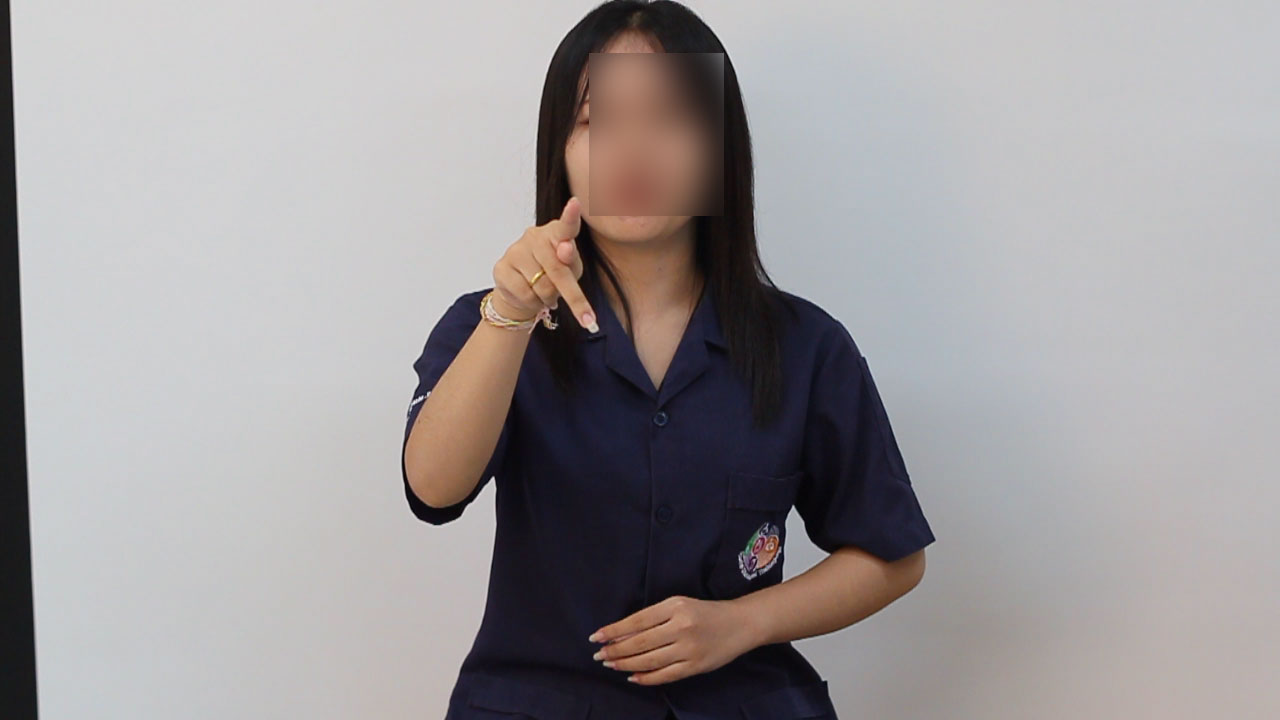por: (480, 176, 613, 345)
